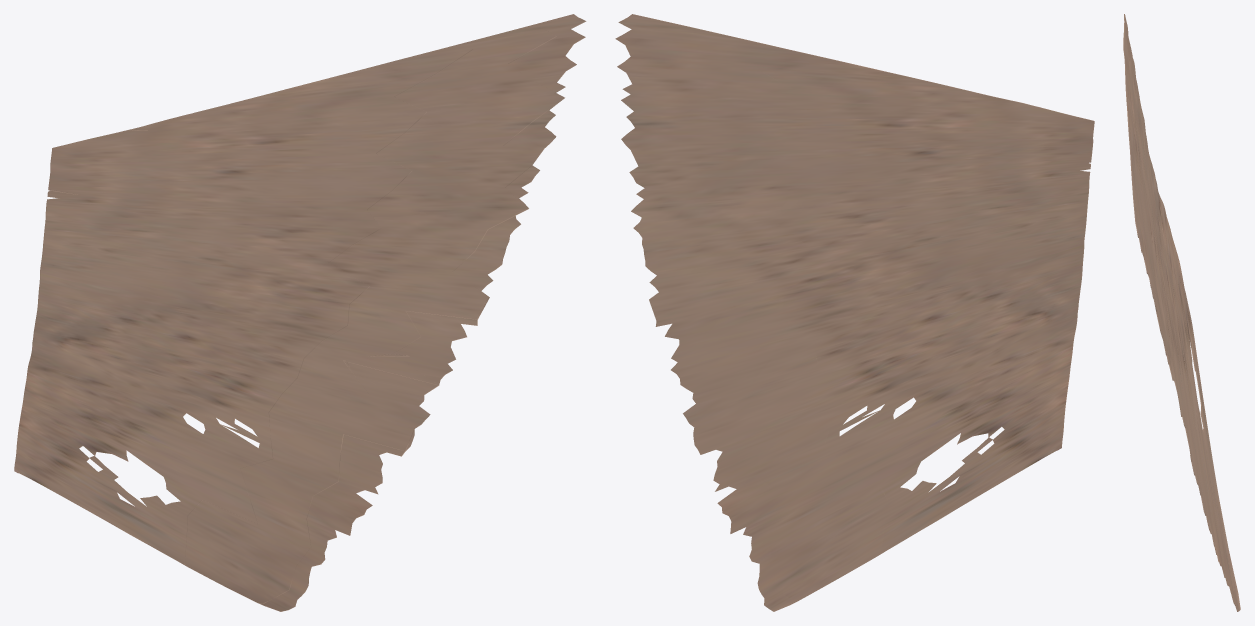
The picture shows the model from 3 angles, left to right: view 1: azimuth 30°, elevation 25°; view 2: azimuth 150°, elevation 25°; view 3: azimuth 270°, elevation 25°; orthographic projection. The views are drawn at different scales.
Size of the model in its own units: 53.79 by 55.66 by 12.43.
Materials: 1 (1 with a texture image).
